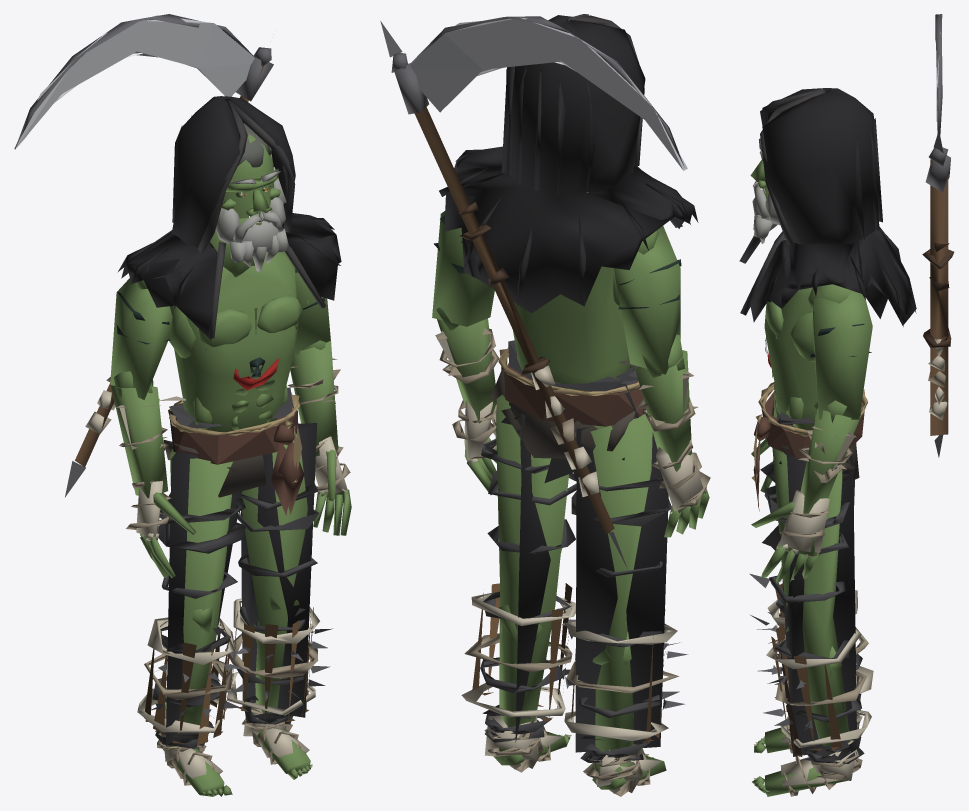
The model's file is undead_heavy.glb.
The picture shows the model from 3 angles, left to right: view 1: azimuth 30°, elevation 25°; view 2: azimuth 150°, elevation 25°; view 3: azimuth 270°, elevation 25°; orthographic projection. The views are drawn at different scales.
Parts seen in each view (by area): view 1: B_11d, B_1d, B_4d, B_2d, B_12d, B_13d, B_6d, B_7d, B_0d, B_8d, B_3d, B_10d (+2 smaller); view 2: B_11d, B_4d, B_7d, B_13d, B_2d, B_6d, B_12d, B_1d, B_8d, B_10d, B_9d, B_3d (+1 smaller); view 3: B_6d, B_11d, B_2d, B_7d, B_12d, B_4d, B_13d, B_1d, B_8d, B_10d, B_3d, B_5d (+2 smaller).
Boxes of the visible parts, x1,y1,x2,y2 form: B_11d: (152,387,319,748); B_1d: (169,252,302,431); B_4d: (163,425,307,733); B_2d: (110,251,338,498); B_12d: (137,598,332,785); B_13d: (14,14,273,497); B_6d: (171,96,295,253); B_7d: (117,213,341,340); B_0d: (210,123,289,277); B_8d: (168,392,304,515); B_3d: (140,449,351,578); B_10d: (126,436,350,540); B_11d: (480,340,671,762); B_4d: (491,369,652,758); B_7d: (439,146,698,313); B_13d: (380,16,687,568); B_2d: (432,211,691,471); B_6d: (501,14,645,194); B_12d: (461,548,688,796); B_1d: (513,266,635,391); B_8d: (498,347,642,426); B_10d: (452,400,710,514); B_9d: (435,328,698,431); B_3d: (464,433,709,537); B_6d: (760,88,882,245); B_11d: (760,411,864,763); B_2d: (800,284,872,513); B_7d: (739,226,916,326); B_12d: (749,573,873,796); B_4d: (772,408,859,756); B_13d: (922,14,954,457); B_1d: (764,287,817,429); B_8d: (751,382,867,511); B_10d: (776,490,829,557); B_3d: (751,438,818,583); B_5d: (752,727,847,796).
Size of the model in its own units: 1 by 2.55 by 0.6797.
